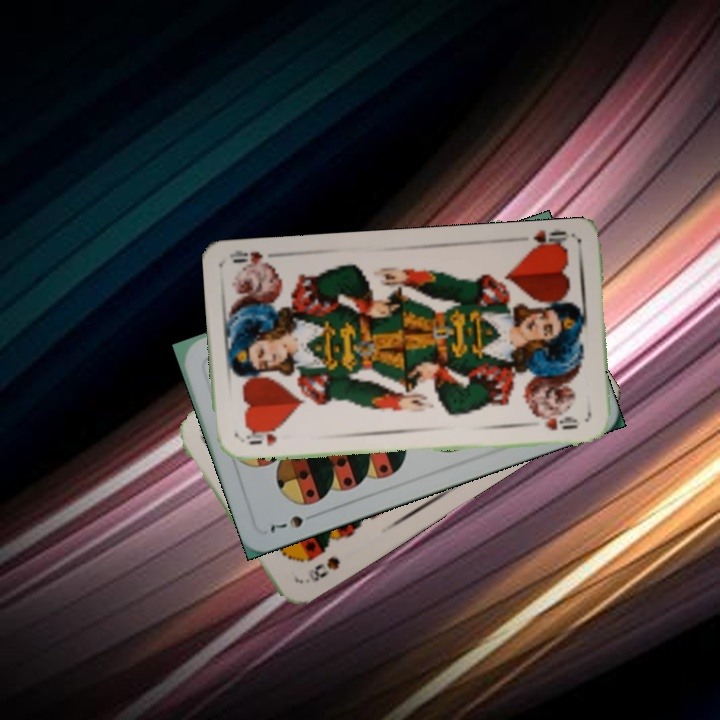HO: (525, 226, 575, 255), (238, 430, 279, 449)
S7: (266, 508, 322, 537)
S8: (307, 552, 343, 585)
